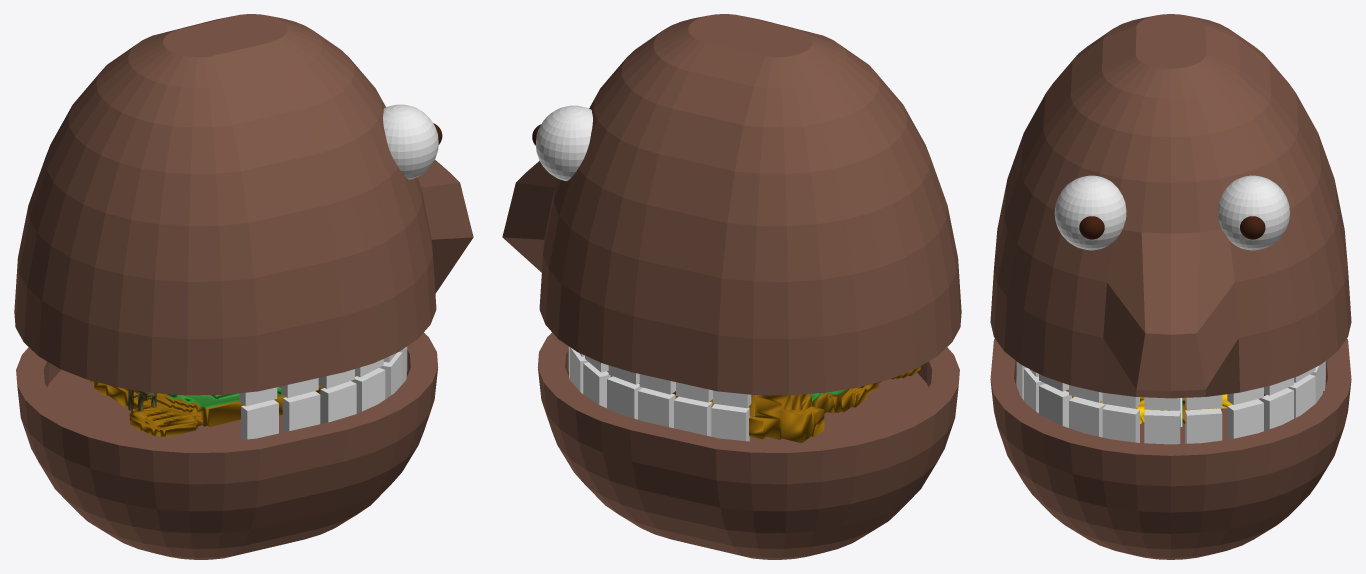
The model's file is worldmapblended.glb.
The picture shows the model from 3 angles, left to right: view 1: azimuth 30°, elevation 25°; view 2: azimuth 150°, elevation 25°; view 3: azimuth 270°, elevation 25°; orthographic projection. The views are drawn at different scales.
Visible parts, largest first — view 1: TopHead, BottomHead, worldmap, Sphere.002, Cube, Cube.013, Cube.001, Cube.002, Cube.003; view 2: TopHead, BottomHead, worldmap, Sphere.003, Cube.014, Cube.012, Cube.011, Cube.010, Cube.009; view 3: TopHead, BottomHead, Sphere.003, Sphere.002, Cube.005, Cube.007, Cube.008, Cube.006, Cube.004, Cube.003, Cube.015, Cube.009 (+7 smaller).
Boxes of the visible parts, box(x1,y1,x2,y2) form: TopHead: box(14, 14, 473, 395); BottomHead: box(16, 332, 438, 559); worldmap: box(89, 375, 356, 437); Sphere.002: box(383, 104, 438, 179); Cube: box(282, 391, 320, 432); Cube.013: box(241, 399, 278, 439); Cube.001: box(320, 381, 356, 423); Cube.002: box(352, 368, 385, 413); Cube.003: box(379, 352, 402, 398); TopHead: box(502, 14, 961, 395); BottomHead: box(537, 332, 959, 559); worldmap: box(639, 366, 920, 443); Sphere.003: box(535, 105, 592, 181); Cube.014: box(711, 404, 749, 441); Cube.012: box(674, 396, 712, 436); Cube.011: box(638, 387, 675, 428); Cube.010: box(607, 376, 642, 419); Cube.009: box(583, 362, 610, 408); TopHead: box(990, 14, 1351, 398); BottomHead: box(990, 339, 1351, 559); Sphere.003: box(1218, 175, 1289, 250); Sphere.002: box(1054, 175, 1126, 250); Cube.005: box(1102, 404, 1139, 442); Cube.007: box(1185, 408, 1222, 443); Cube.008: box(1227, 399, 1263, 439); Cube.006: box(1144, 410, 1180, 444); Cube.004: box(1069, 396, 1105, 437); Cube.003: box(1039, 383, 1071, 427); Cube.015: box(1260, 388, 1293, 430); Cube.009: box(1288, 374, 1315, 418).
Size of the model in its own units: 12.64 by 14.32 by 9.65.
4 materials, 1 textured.
